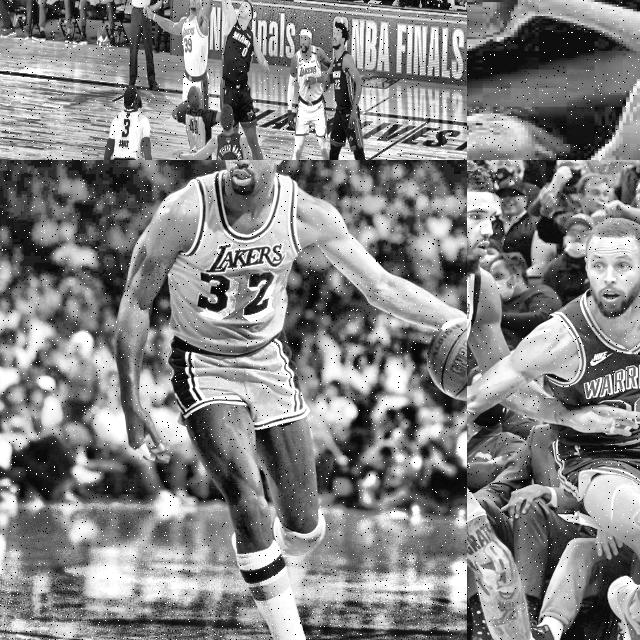Basketball: (428, 319, 467, 401)
